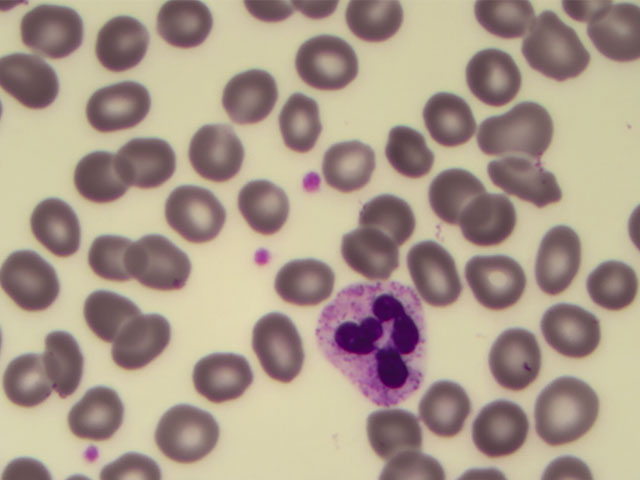Platelets: (299, 170, 323, 193), (251, 246, 270, 265), (83, 445, 99, 462)
RBC: (1, 48, 67, 111), (84, 76, 150, 139), (91, 10, 157, 73), (215, 60, 281, 123), (186, 120, 252, 183), (114, 132, 180, 195), (70, 148, 136, 211), (22, 198, 88, 261), (1, 253, 67, 316), (88, 230, 154, 293), (128, 227, 194, 290), (77, 276, 143, 339), (104, 309, 170, 372), (41, 335, 107, 398), (63, 373, 129, 436), (161, 402, 227, 465), (192, 349, 258, 412), (247, 316, 313, 379), (272, 246, 338, 309), (333, 225, 399, 288), (360, 188, 426, 251), (324, 138, 390, 201), (273, 92, 339, 155), (294, 33, 360, 96), (340, 4, 406, 67), (375, 125, 441, 188), (423, 83, 489, 146), (464, 41, 530, 104), (526, 23, 592, 86), (574, 2, 640, 65), (480, 99, 546, 162), (496, 151, 562, 214), (416, 160, 482, 223), (453, 190, 519, 253), (401, 241, 467, 304), (474, 256, 540, 319), (525, 231, 591, 294), (574, 254, 640, 317), (537, 298, 603, 361), (487, 329, 553, 392), (538, 375, 604, 438), (463, 403, 529, 466), (424, 378, 490, 441), (367, 397, 433, 460), (1, 356, 66, 419), (144, 1, 210, 63), (22, 1, 88, 62), (471, 1, 535, 41)
WBC: (318, 282, 429, 406)
